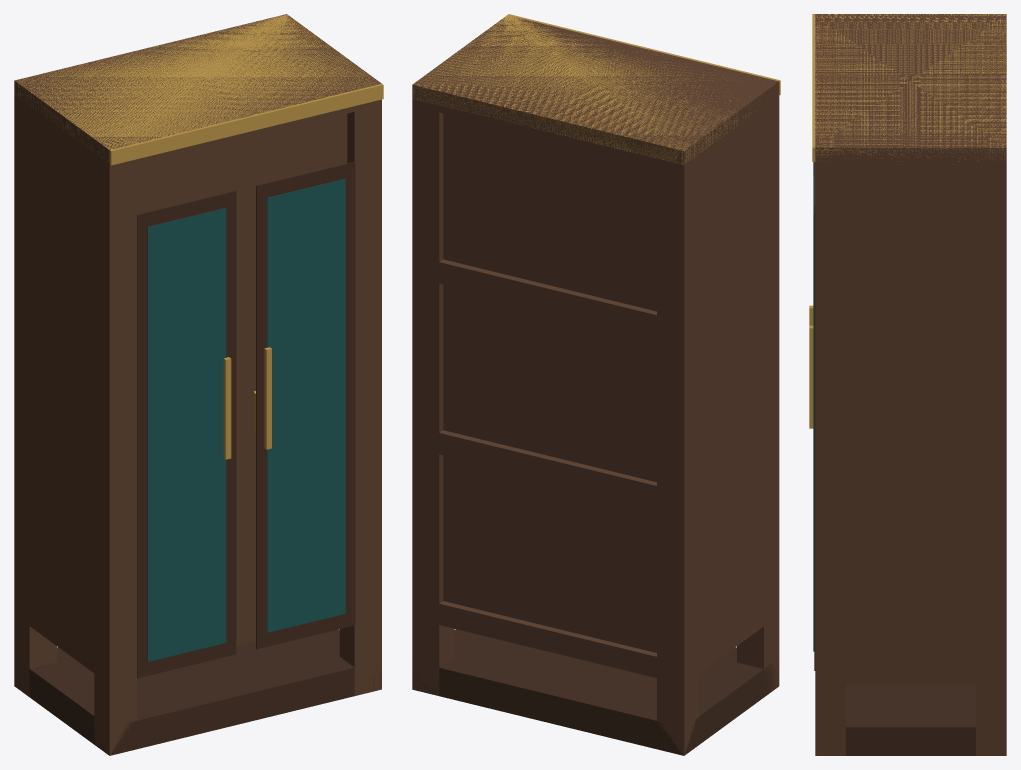
Rendered from bookcaseClosedDoors.glb.
3 views of the same model, side by side, from view 1: azimuth 30°, elevation 25°; view 2: azimuth 150°, elevation 25°; view 3: azimuth 270°, elevation 25° (orthographic).
Parts seen in each view (by area): view 1: bookcaseClosedDoors(Clone), doorRight, doorLeft; view 2: bookcaseClosedDoors(Clone); view 3: bookcaseClosedDoors(Clone).
Part boxes in pixels (x1,y1,x2,y2): bookcaseClosedDoors(Clone): (14,14,383,755); doorRight: (238,113,347,634); doorLeft: (137,140,238,635); bookcaseClosedDoors(Clone): (412,14,780,755); bookcaseClosedDoors(Clone): (809,14,1006,755).
Size of the model in its own units: 0.4 by 0.85 by 0.25.
